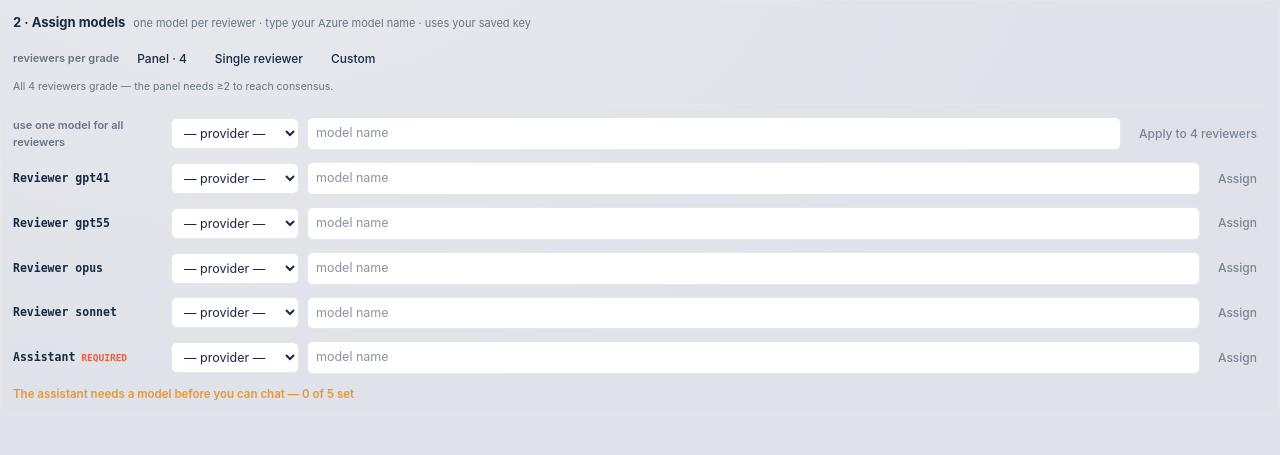
Test: AssignModelsSection — per-role endpoint / api_version (NEW-G1) › shows the endpoint + api_version inputs ONLY when the row's provider is azure
Note: openai: no per-role endpoint/version inputs
Select "openai" in the dropdown with test id "role-bind-provider-reviewer_gpt41" at x=235, y=179, box [171, 163, 299, 194]
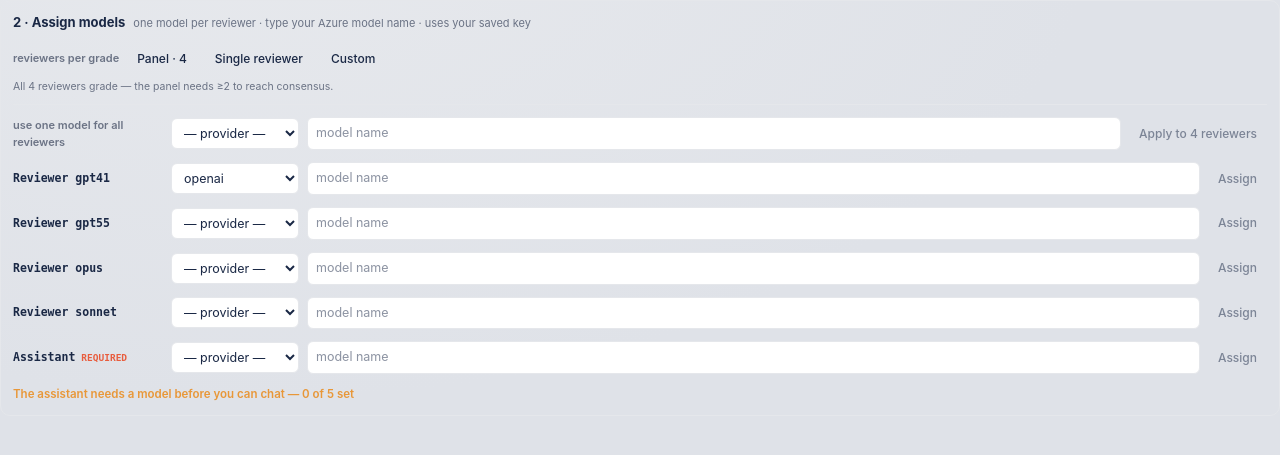
Note: azure: the optional endpoint + api_version inputs appear
Select "azure" in the dropdown with test id "role-bind-provider-reviewer_gpt41" at x=235, y=179, box [171, 163, 299, 194]
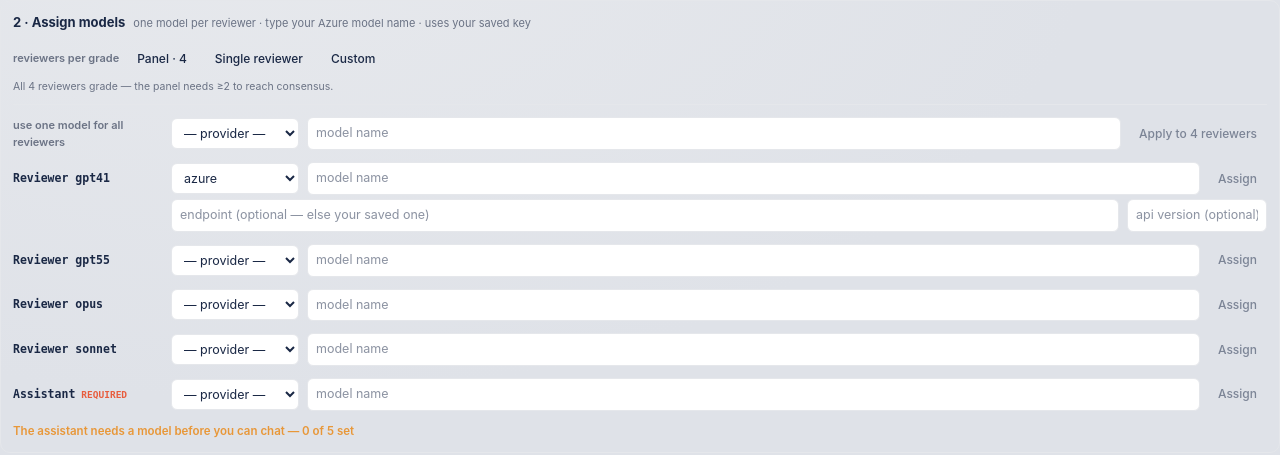
Expected: the field with test id "role-bind-endpoint-reviewer_gpt41" is shown, [171, 199, 1119, 232]
Expected: the field with test id "role-bind-apiversion-reviewer_gpt41" is shown, [1127, 199, 1267, 232]
